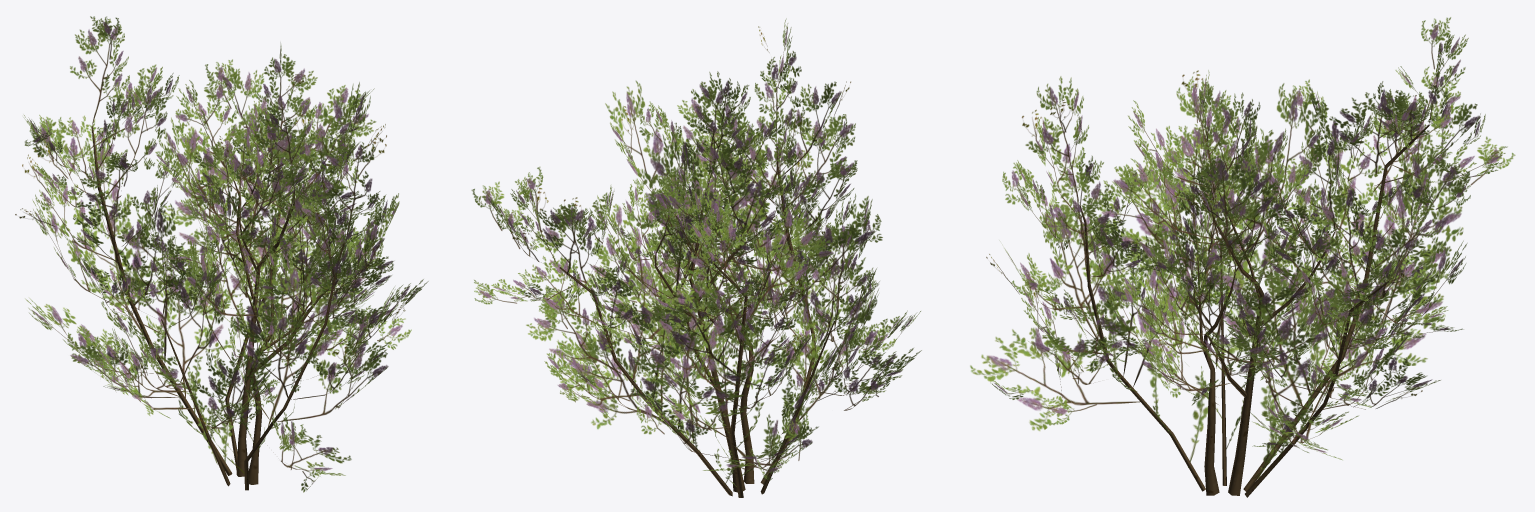
File: tbush3.glb
The picture shows the model from 3 angles, left to right: view 1: azimuth 30°, elevation 25°; view 2: azimuth 150°, elevation 25°; view 3: azimuth 270°, elevation 25°; orthographic projection. The views are drawn at different scales.
Visible parts, largest first — view 1: prefab; view 2: prefab; view 3: prefab.
Boxes of the visible parts, bbox=[...] form: prefab: bbox=[15, 16, 428, 492]; prefab: bbox=[471, 18, 921, 497]; prefab: bbox=[970, 17, 1515, 497].
Size of the model in its own units: 1.81 by 1.93 by 2.16.
Materials: 2 (2 with a texture image).
